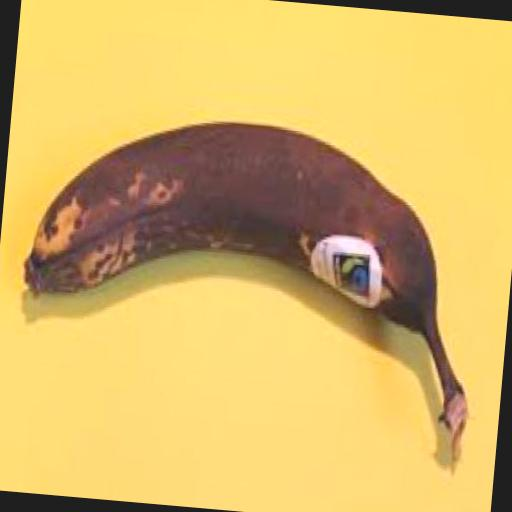biodegradable: (10, 103, 489, 444)
